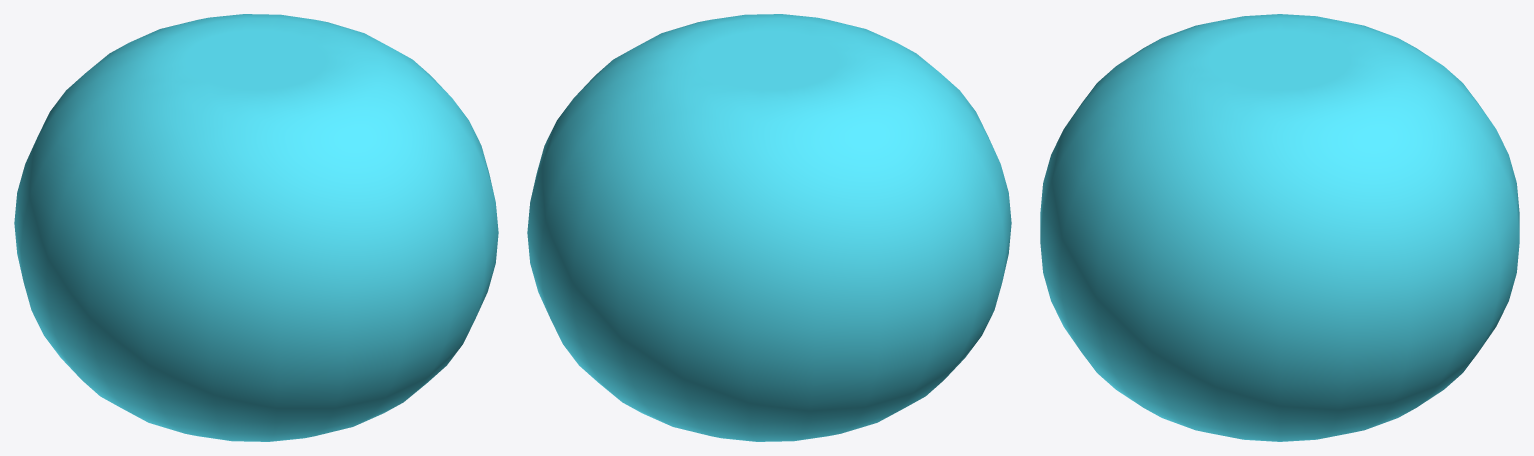
The model's file is SM_FloorLight_002_d.FBX.
3 renders of one model, left to right at view 1: azimuth 30°, elevation 25°; view 2: azimuth 150°, elevation 25°; view 3: azimuth 270°, elevation 25°, orthographic.
Parts seen in each view (by area): view 1: SM_FloorLight_002_d; view 2: SM_FloorLight_002_d; view 3: SM_FloorLight_002_d.
Part boxes in pixels (box(x1,y1,x2,y2)): SM_FloorLight_002_d: box(14, 14, 498, 441); SM_FloorLight_002_d: box(527, 14, 1011, 441); SM_FloorLight_002_d: box(1040, 14, 1519, 441).
Bounding box in the file's own units: 38.23 × 37.84 × 29.8.
